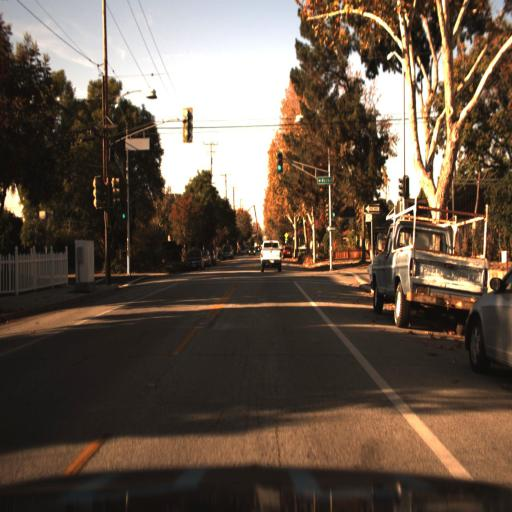car: (367, 193, 490, 328), (361, 201, 466, 335), (462, 253, 511, 383), (255, 233, 283, 279), (181, 246, 207, 280), (245, 246, 259, 259)
trafficLight-Green: (329, 195, 338, 225), (275, 148, 284, 176), (275, 154, 283, 180), (327, 206, 337, 224), (117, 209, 126, 227)
